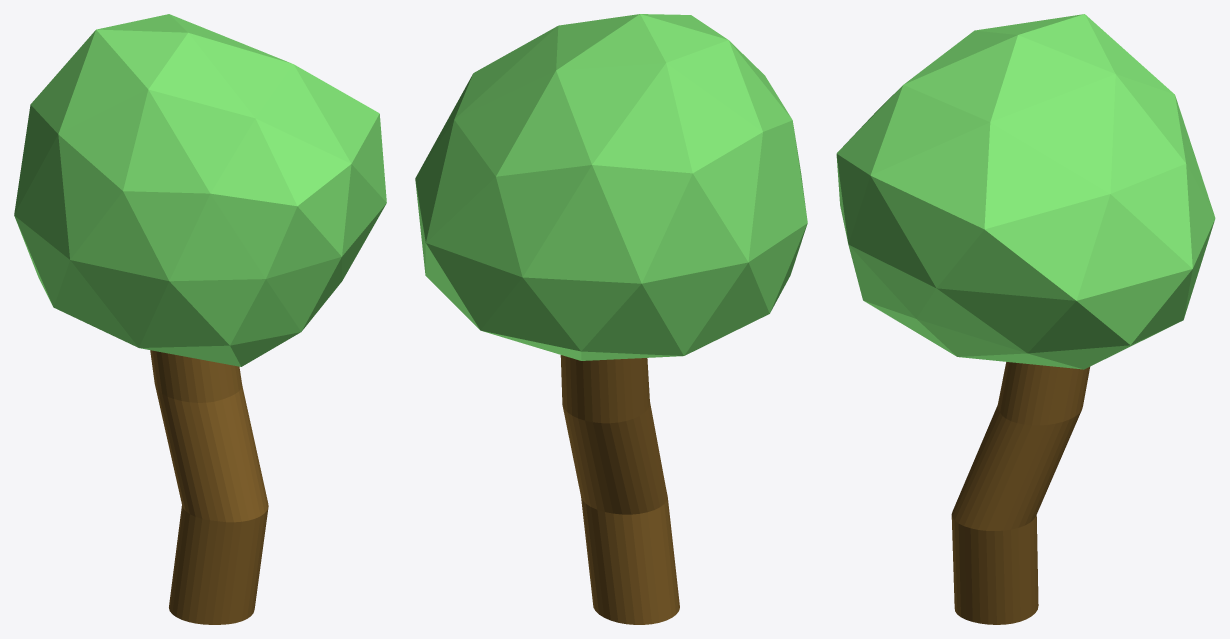
File: tree-1.glb
The picture shows the model from 3 angles, left to right: view 1: azimuth 30°, elevation 25°; view 2: azimuth 150°, elevation 25°; view 3: azimuth 270°, elevation 25°; orthographic projection. The views are drawn at different scales.
Parts seen in each view (by area): view 1: Icosphere, Cylinder; view 2: Icosphere, Cylinder; view 3: Icosphere, Cylinder.
Part boxes in pixels (x1,y1,x2,y2): Icosphere: [14, 14, 386, 366]; Cylinder: [150, 350, 268, 624]; Icosphere: [415, 14, 807, 360]; Cylinder: [560, 355, 679, 624]; Icosphere: [836, 14, 1215, 369]; Cylinder: [951, 362, 1089, 624].
Size of the model in its own units: 0.9286 by 1.57 by 0.956.
